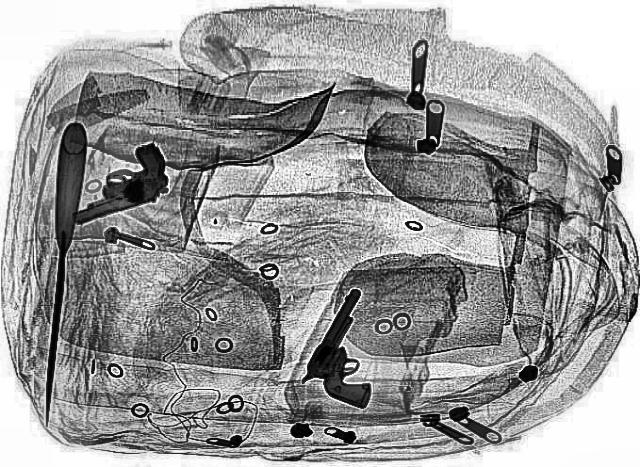Gun: (286, 285, 428, 409), (44, 141, 186, 223)
Knife: (31, 120, 87, 428)
